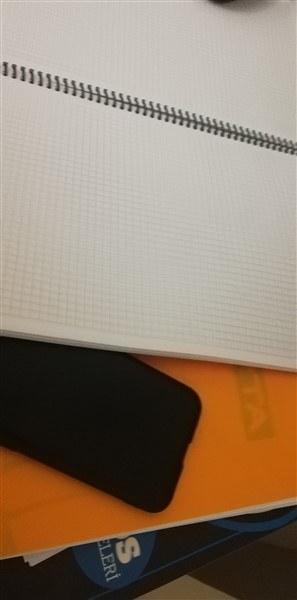telefon: (1, 327, 207, 517)
